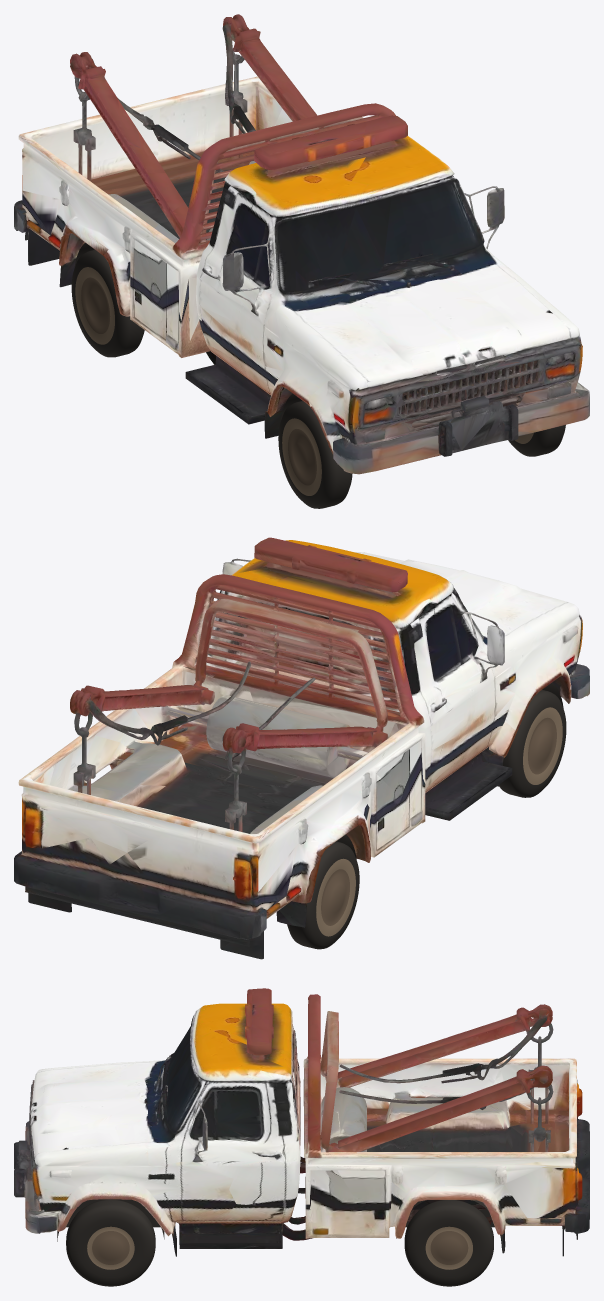
Rendered from VEH_M_Wrecker_Drive.glb.
3 views of the same model, one above another, from view 1: azimuth 30°, elevation 25°; view 2: azimuth 150°, elevation 25°; view 3: azimuth 270°, elevation 25° (orthographic). The views are drawn at different scales.
Visible parts, largest first — view 1: VEH_M_Wrecker, Wheel_FR, Wheel_RR, Wheel_FL; view 2: VEH_M_Wrecker, Wheel_FR, Wheel_RR; view 3: VEH_M_Wrecker, Wheel_FL, Wheel_RL, Liner_Wheel_FL.
Part boxes in pixels (box(x1,y1,x2,y2)): VEH_M_Wrecker: box(14, 14, 589, 474); Wheel_FR: box(278, 401, 352, 508); Wheel_RR: box(71, 249, 144, 357); Wheel_FL: box(508, 425, 565, 456); VEH_M_Wrecker: box(14, 537, 589, 959); Wheel_FR: box(499, 690, 566, 797); Wheel_RR: box(287, 841, 359, 949); VEH_M_Wrecker: box(14, 988, 589, 1256); Wheel_FL: box(66, 1199, 155, 1286); Wheel_RL: box(404, 1200, 493, 1286); Liner_Wheel_FL: box(57, 1199, 164, 1241).
Bounding box in the file's own units: 2.58 × 2.42 × 5.6.
4 materials, 1 textured.
